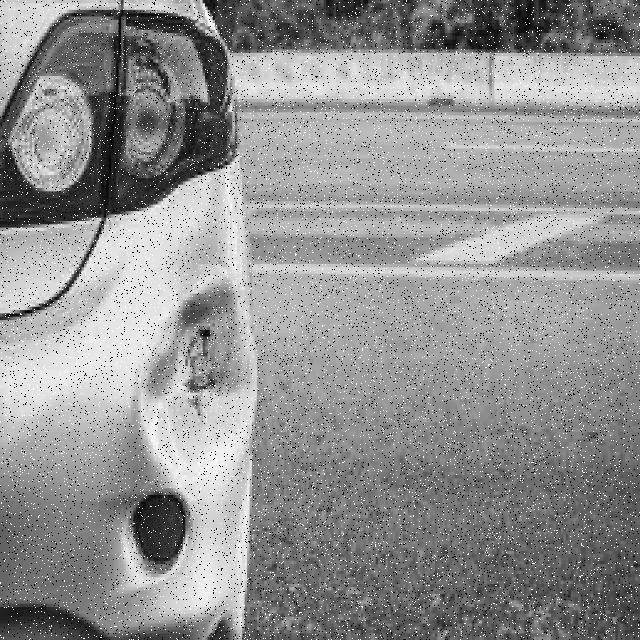rear-bumper-dent: (0, 239, 256, 638)
